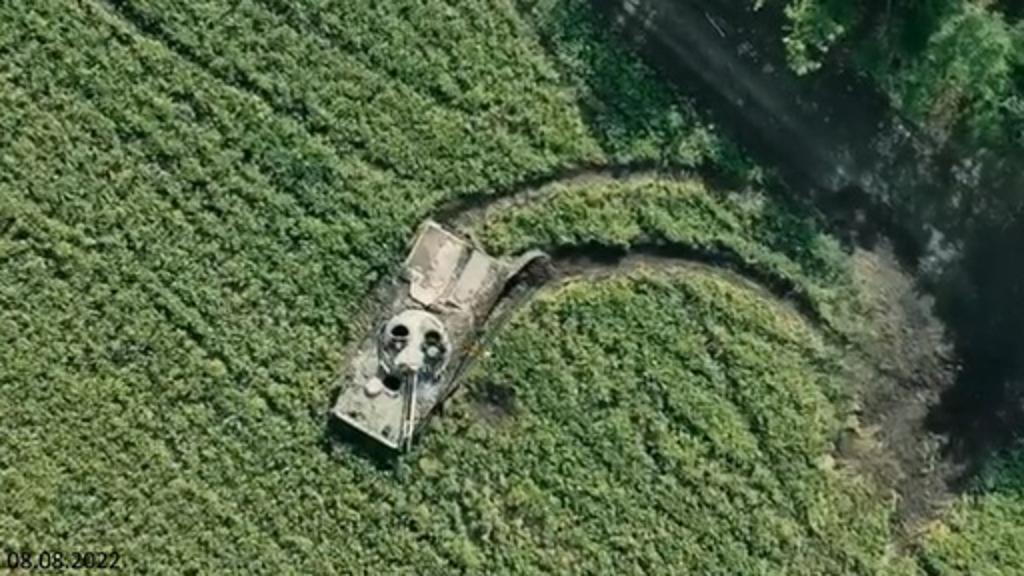APC-IFV: (316, 220, 512, 458)
